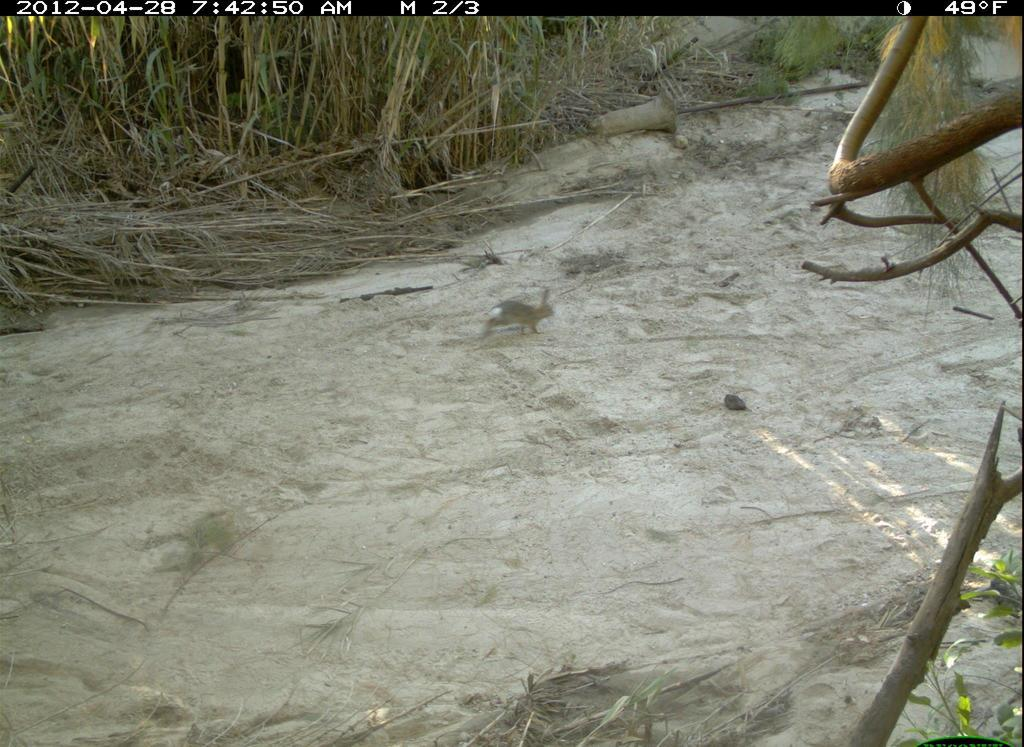rabbit: (469, 285, 562, 345)
